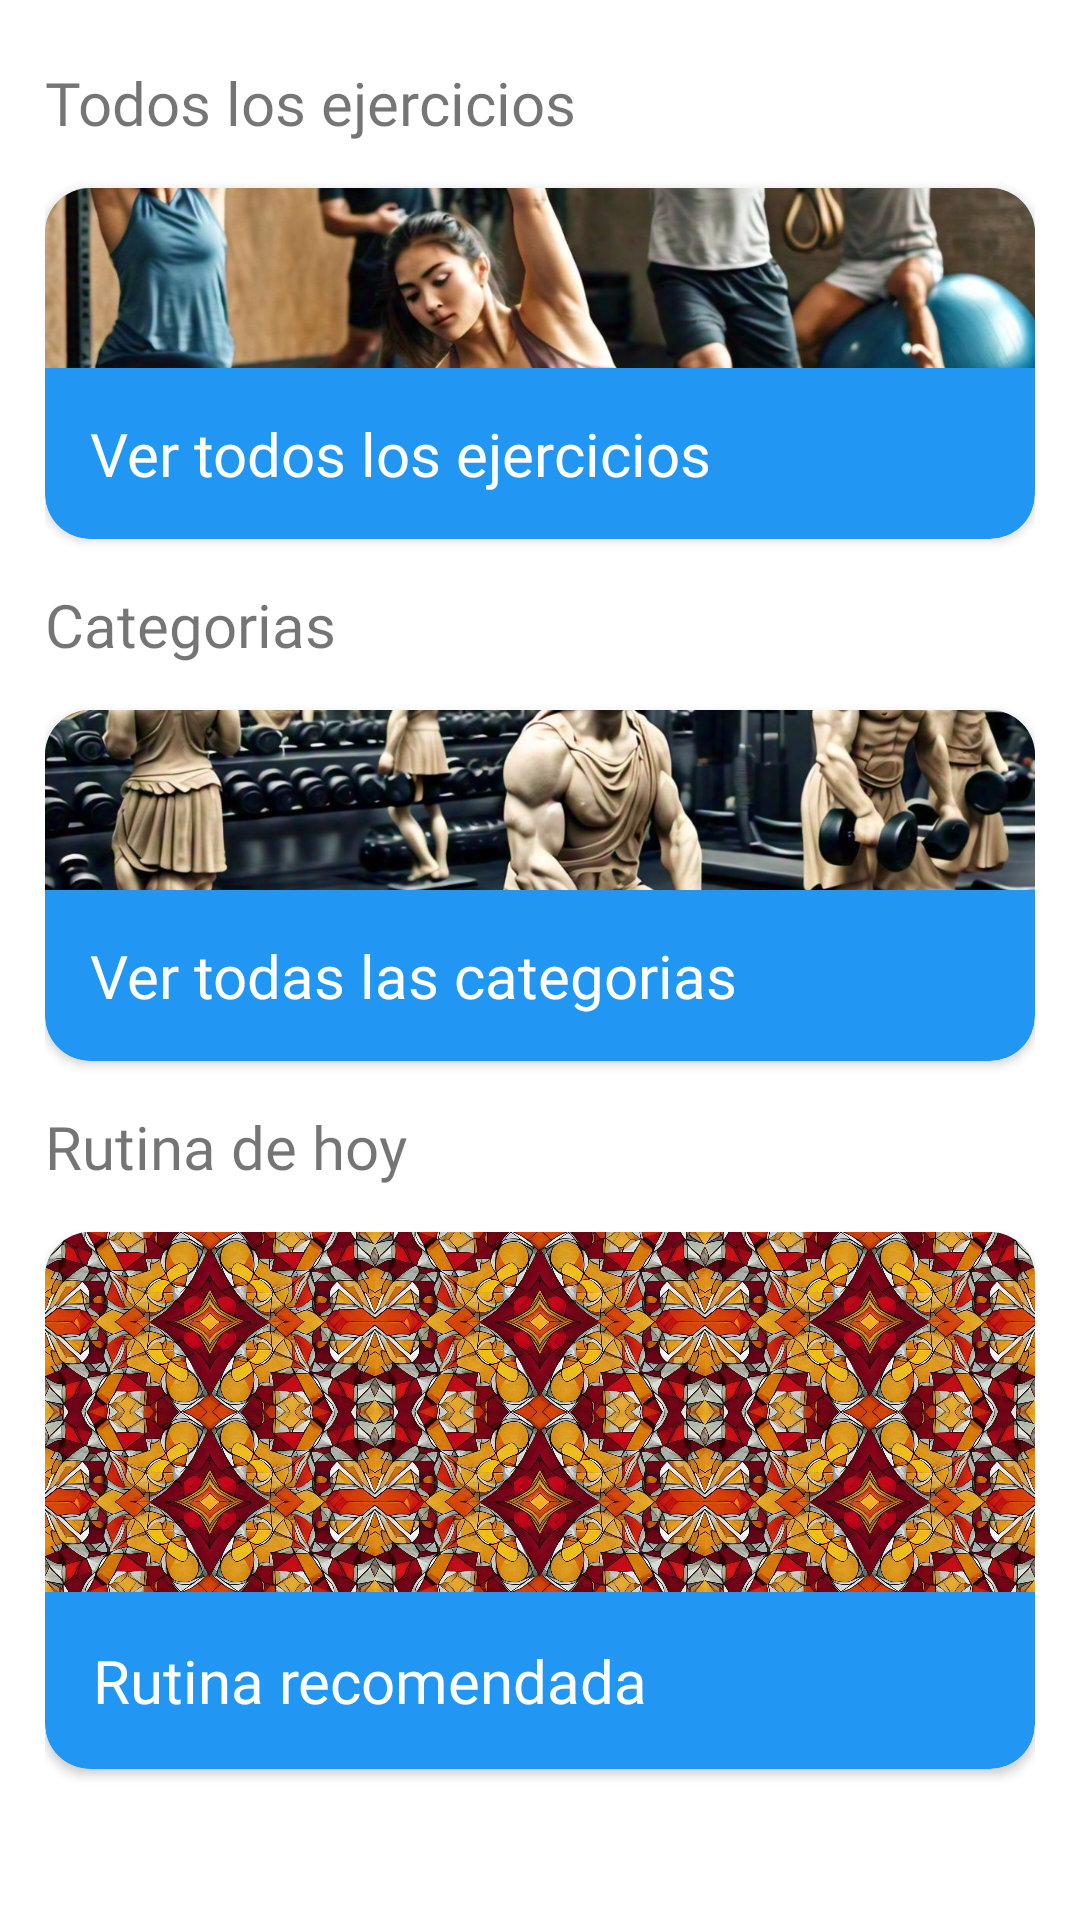

Screen size 1080x1920. Icon name, then its center in pixels as (x=x, y=y):
patron: (x=210, y=1322), (x=540, y=1322), (x=870, y=1322), (x=210, y=1502), (x=540, y=1502), (x=870, y=1502)
